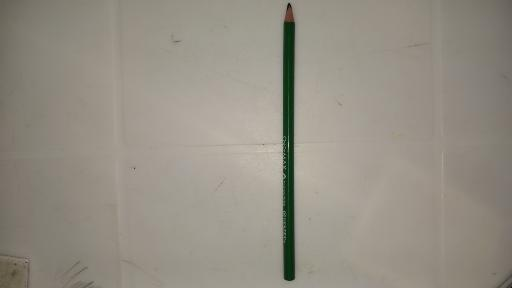Pencil: (281, 0, 296, 284)
